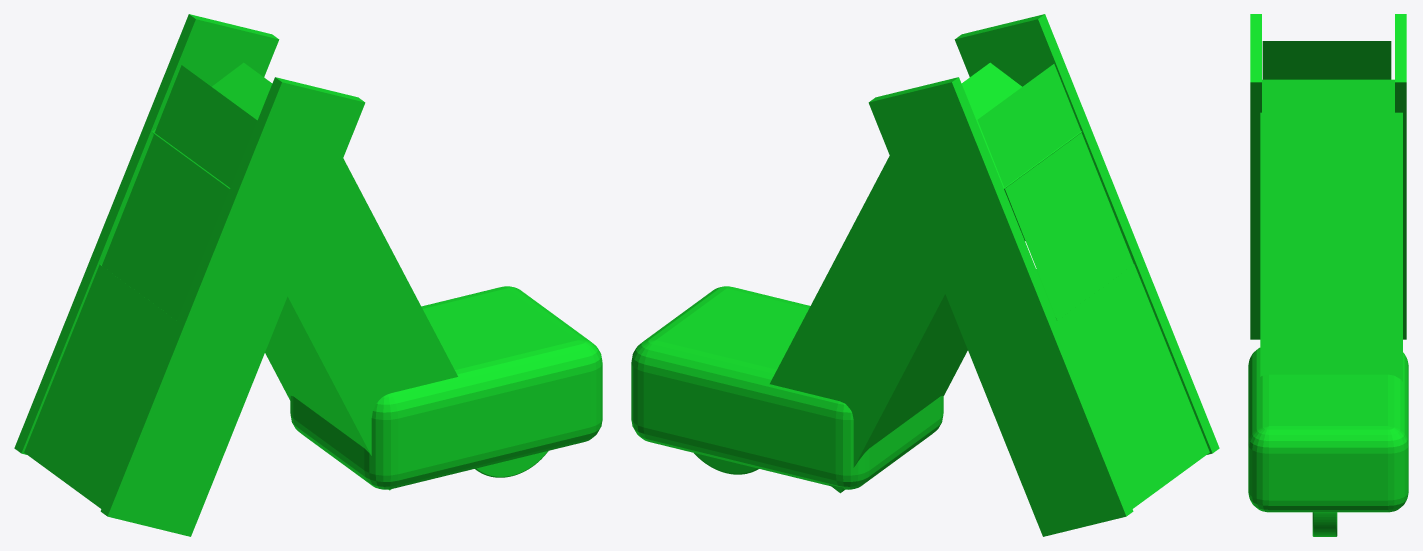
File: SampleMotor.dae
3 renders of one model, left to right at view 1: azimuth 30°, elevation 25°; view 2: azimuth 150°, elevation 25°; view 3: azimuth 270°, elevation 25°, orthographic. The views are drawn at different scales.
Parts seen in each view (by area): view 1: SampleMotor; view 2: SampleMotor; view 3: SampleMotor.
Part boxes in pixels (bbox=[...]): SampleMotor: bbox=[14, 14, 602, 536]; SampleMotor: bbox=[631, 14, 1219, 536]; SampleMotor: bbox=[1248, 14, 1408, 536].
Size of the model in its own units: 49.21 by 16.2 by 45.52.
